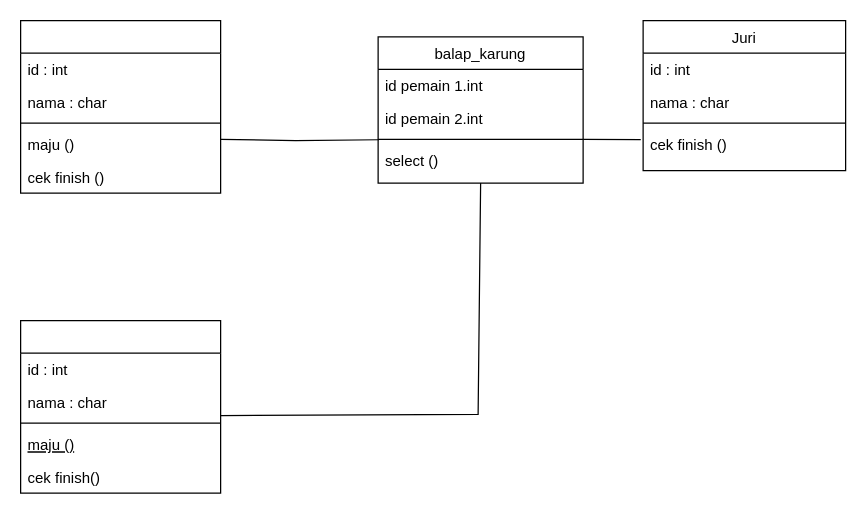
Some shapes in this 866 by 514 pixel diagram are drawn without their labels. The box of each missing label's shape, as (x1, y1, x2, y2) in pixels:
Pemain 1: (19, 19, 221, 193)
pemain 2: (19, 319, 221, 493)
